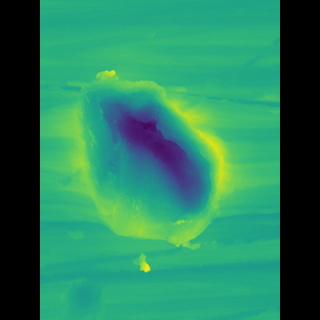Loch: (91, 58, 224, 255)
